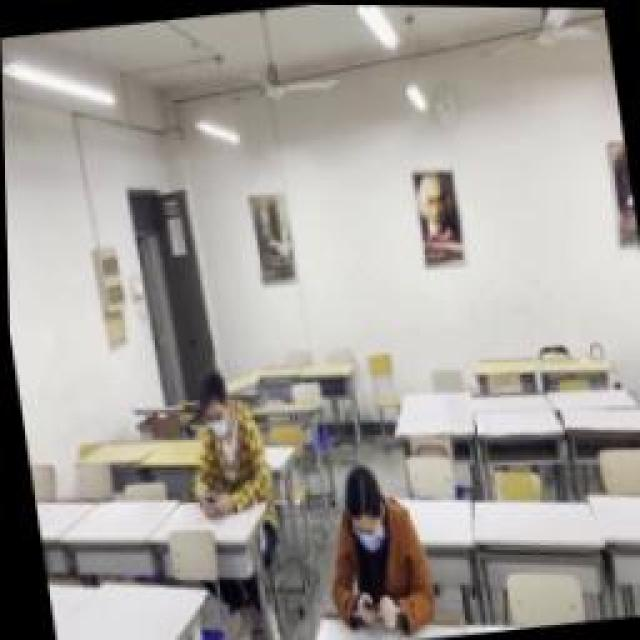phone: (307, 458, 435, 632), (172, 370, 268, 515)
